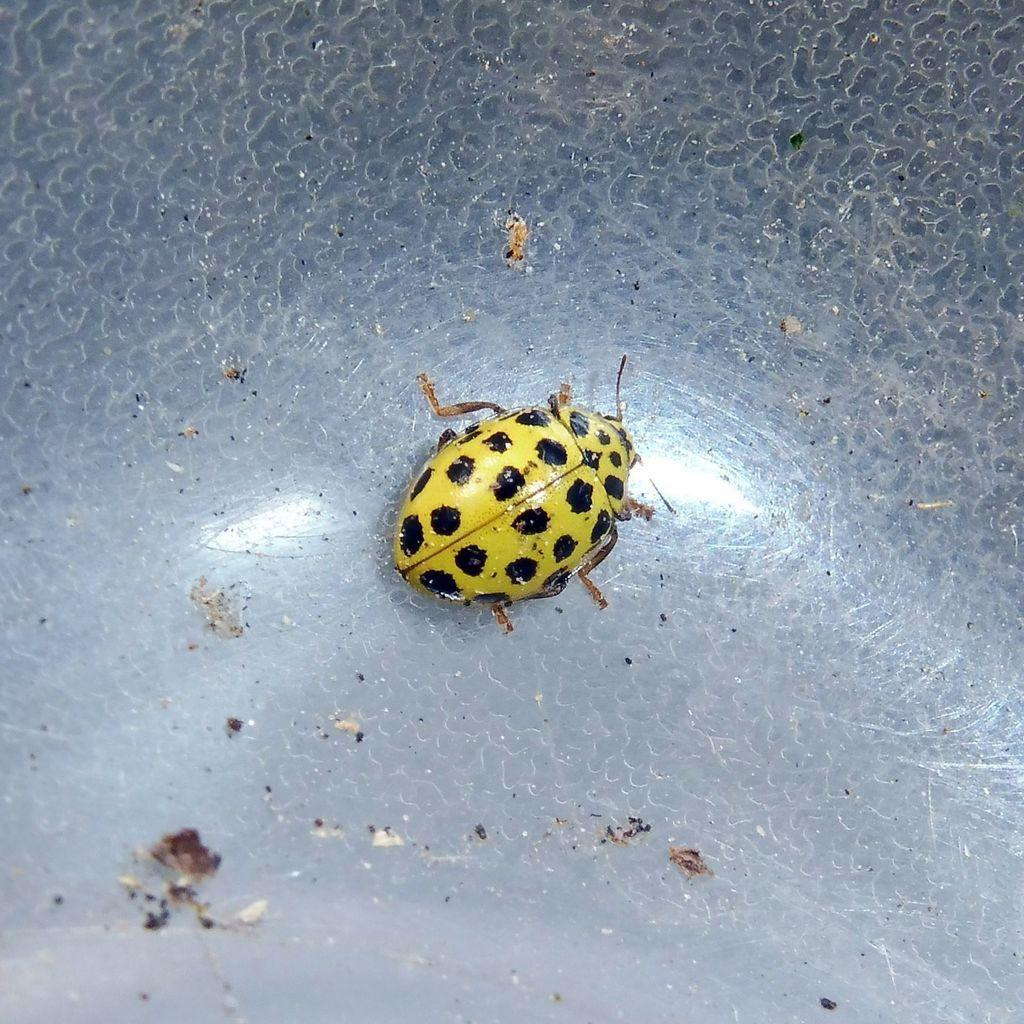ladybug: (391, 351, 681, 639)
